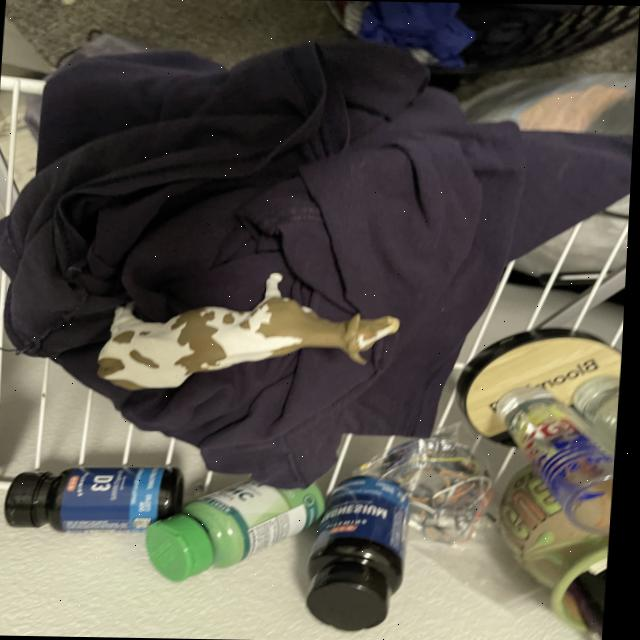cow: (92, 258, 407, 396)
